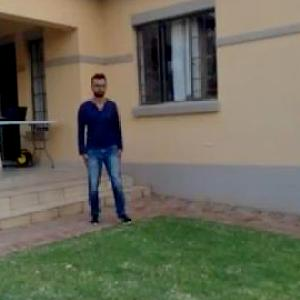follow: (76, 65, 126, 235)
